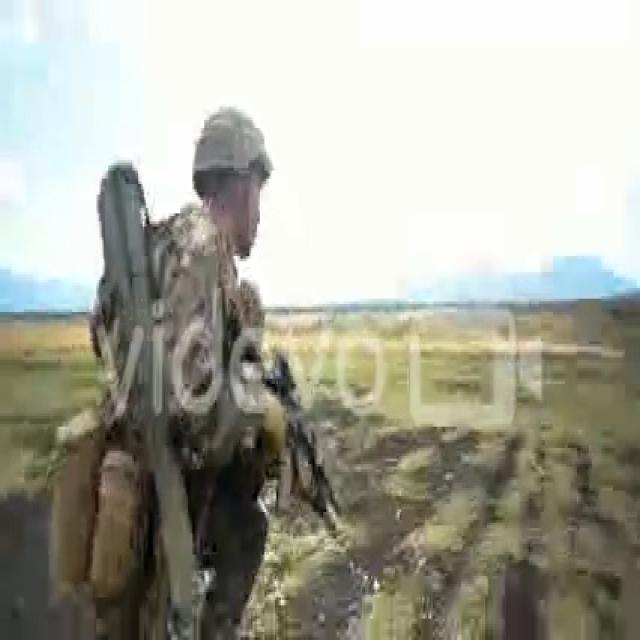bazooka: (95, 153, 215, 640)
